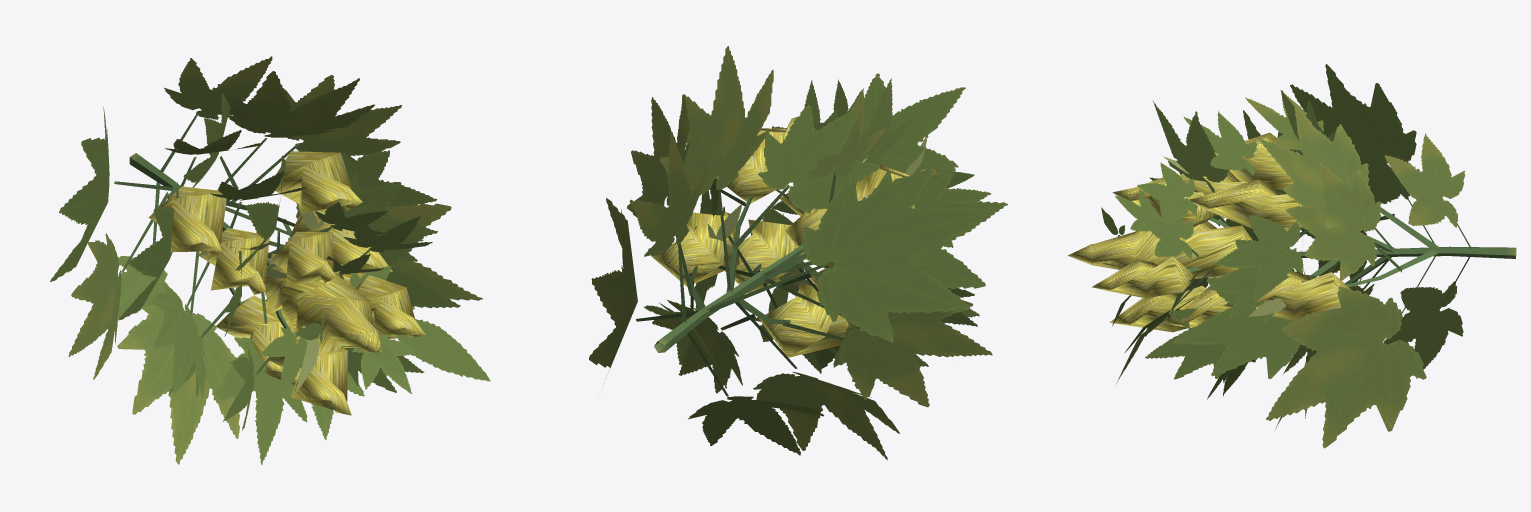
The model's file is p_gold_kush_ripe_c0_cards.obj.
3 views of the same model, side by side, from view 1: azimuth 30°, elevation 25°; view 2: azimuth 150°, elevation 25°; view 3: azimuth 270°, elevation 25° (orthographic). The views are drawn at different scales.
Size of the model in its own units: 1.47 by 1.34 by 1.35.
1 material, 1 textured.
